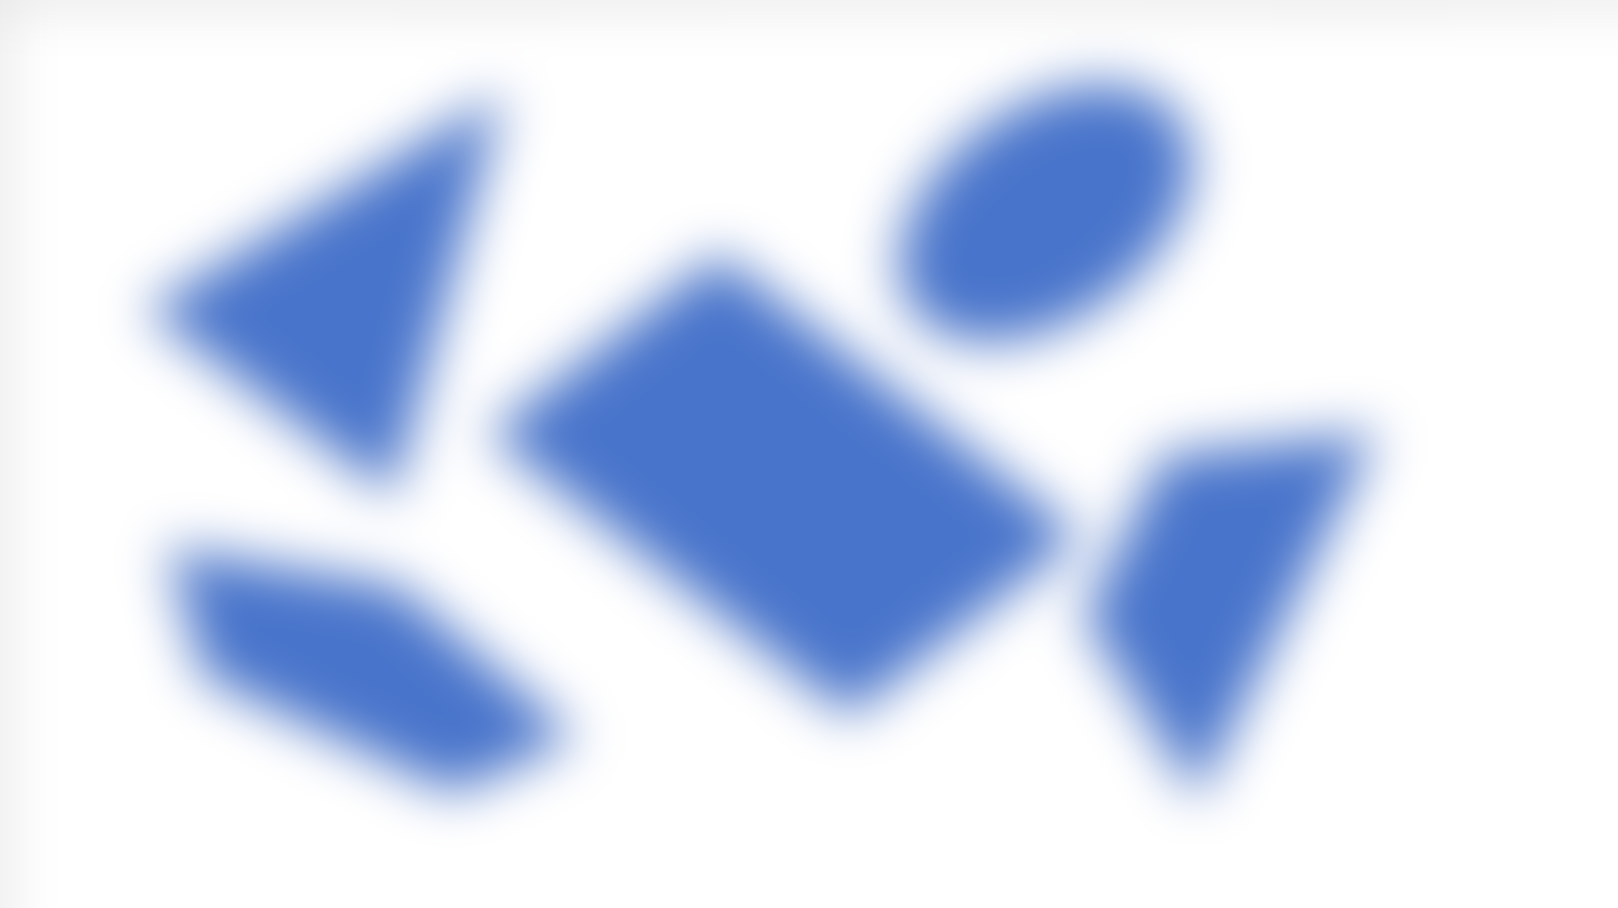circle: (873, 49, 1195, 370)
parallelogram: (501, 263, 1107, 739)
pentagon: (149, 513, 590, 819)
trapezium: (1071, 413, 1377, 785)
triangle: (146, 91, 490, 473)
